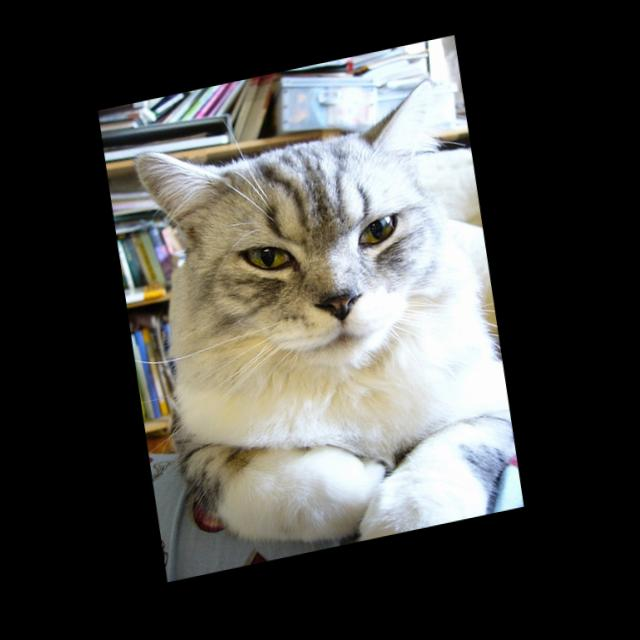animals: (135, 83, 463, 357)
